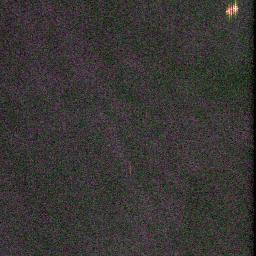Ship: (225, 3, 239, 15)
